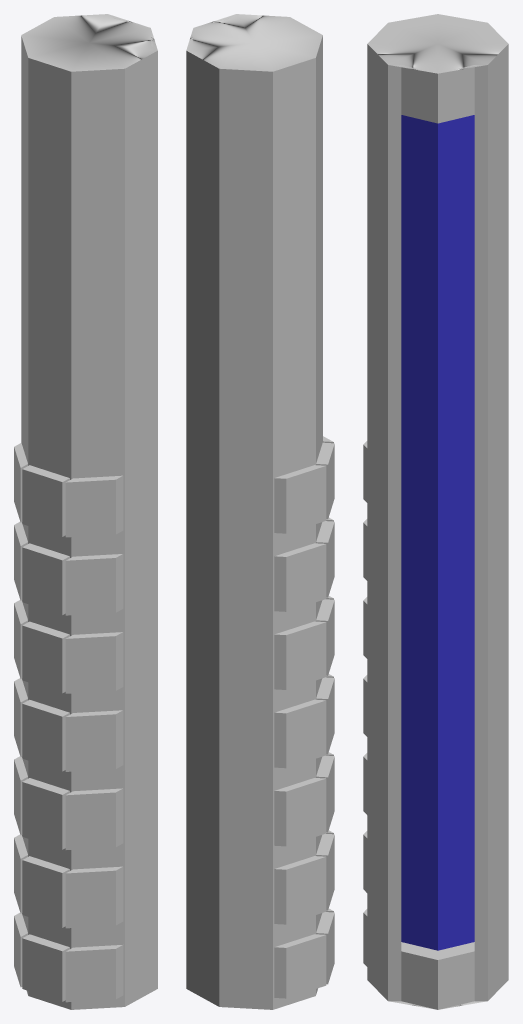
The model's file is Laser.fbx.
The picture shows the model from 3 angles, left to right: view 1: azimuth 30°, elevation 25°; view 2: azimuth 150°, elevation 25°; view 3: azimuth 270°, elevation 25°; orthographic projection.
Parts seen in each view (by area): view 1: Cylinder; view 2: Cylinder; view 3: Cylinder.
Boxes of the visible parts, bbox=[...] form: Cylinder: bbox=[14, 14, 157, 1009]; Cylinder: bbox=[186, 14, 334, 1009]; Cylinder: bbox=[363, 14, 508, 1009].
Size of the model in its own units: 144 by 983 by 138.
